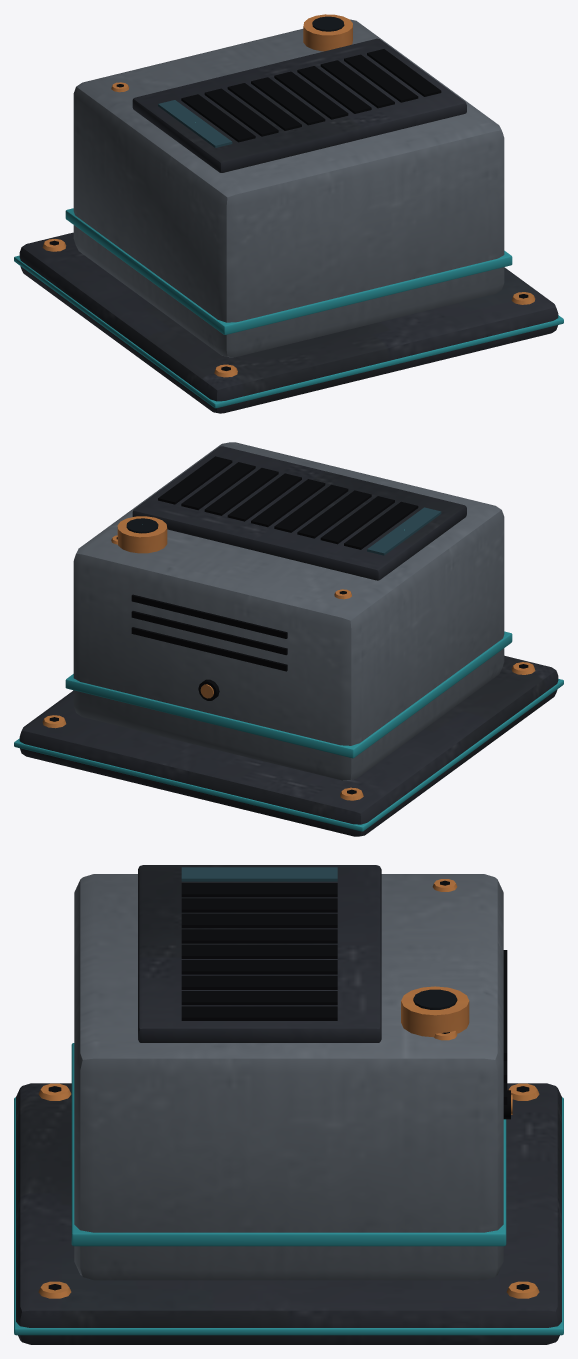
Rendered from controller_1.glb.
3 renders of one model, top to bottom at view 1: azimuth 30°, elevation 25°; view 2: azimuth 150°, elevation 25°; view 3: azimuth 270°, elevation 25°, orthographic. The views are drawn at different scales.
Visible parts, largest first — view 1: Body; view 2: Body; view 3: Body.
Part boxes in pixels (left/top/right/bottom): Body: left=14, top=14, right=563, bottom=413; Body: left=14, top=442, right=563, bottom=836; Body: left=14, top=865, right=563, bottom=1344.
Bounding box in the file's own units: 0.2256 × 0.1356 × 0.2256.
8 materials, 3 textured.
